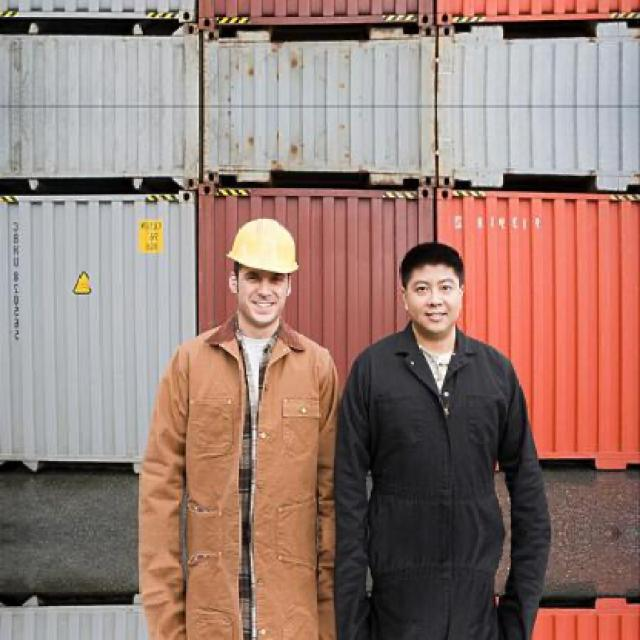con casco: (218, 217, 318, 315)
sin casco: (371, 232, 486, 346)
